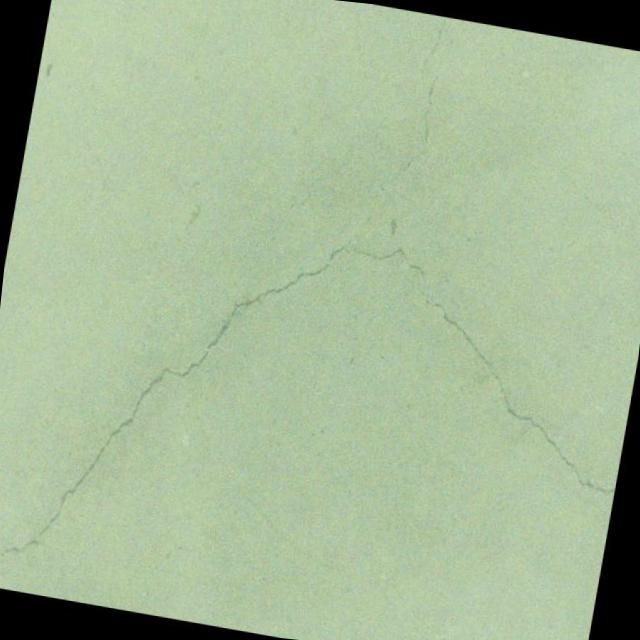crack: (0, 3, 640, 640), (419, 14, 448, 83), (0, 456, 38, 505), (287, 178, 331, 218)
